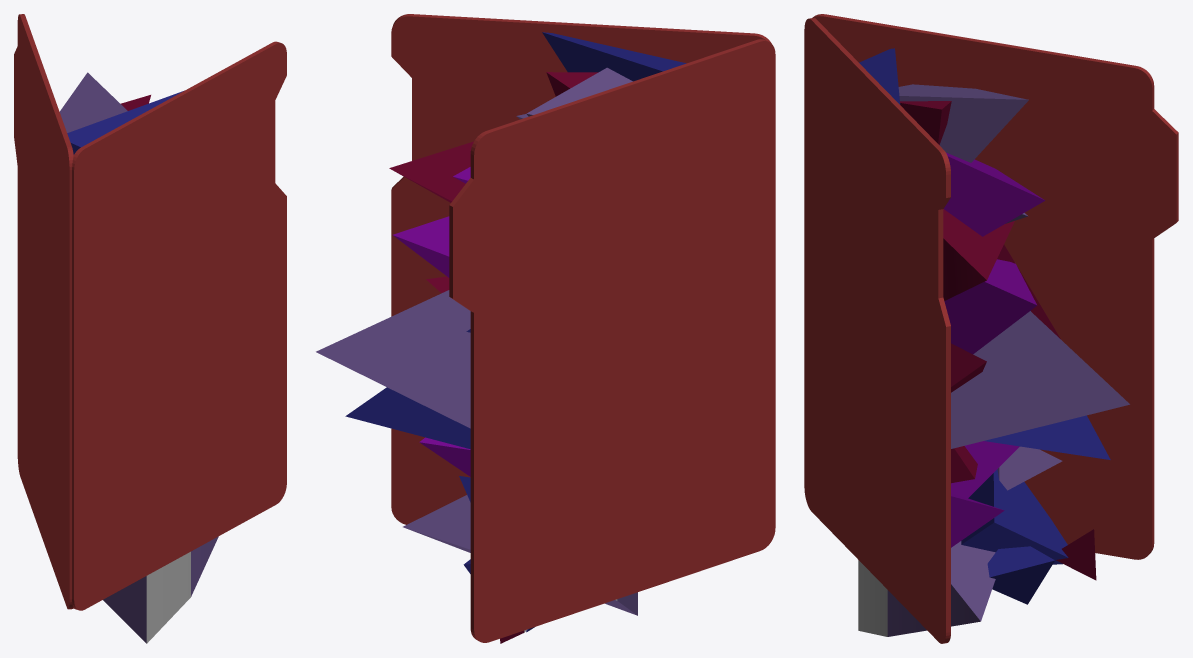
File: Blaster_Tower.fbx
The picture shows the model from 3 angles, left to right: view 1: azimuth 30°, elevation 25°; view 2: azimuth 150°, elevation 25°; view 3: azimuth 270°, elevation 25°; orthographic projection. The views are drawn at different scales.
Visible parts, largest first — view 1: Blaster_Tower_; view 2: Blaster_Tower_; view 3: Blaster_Tower_.
Part boxes in pixels (box(x1,y1,x2,y2)): Blaster_Tower_: box(14, 14, 286, 643); Blaster_Tower_: box(316, 14, 775, 643); Blaster_Tower_: box(804, 14, 1178, 643).
Bounding box in the file's own units: 2.88 × 5.18 × 3.1.
